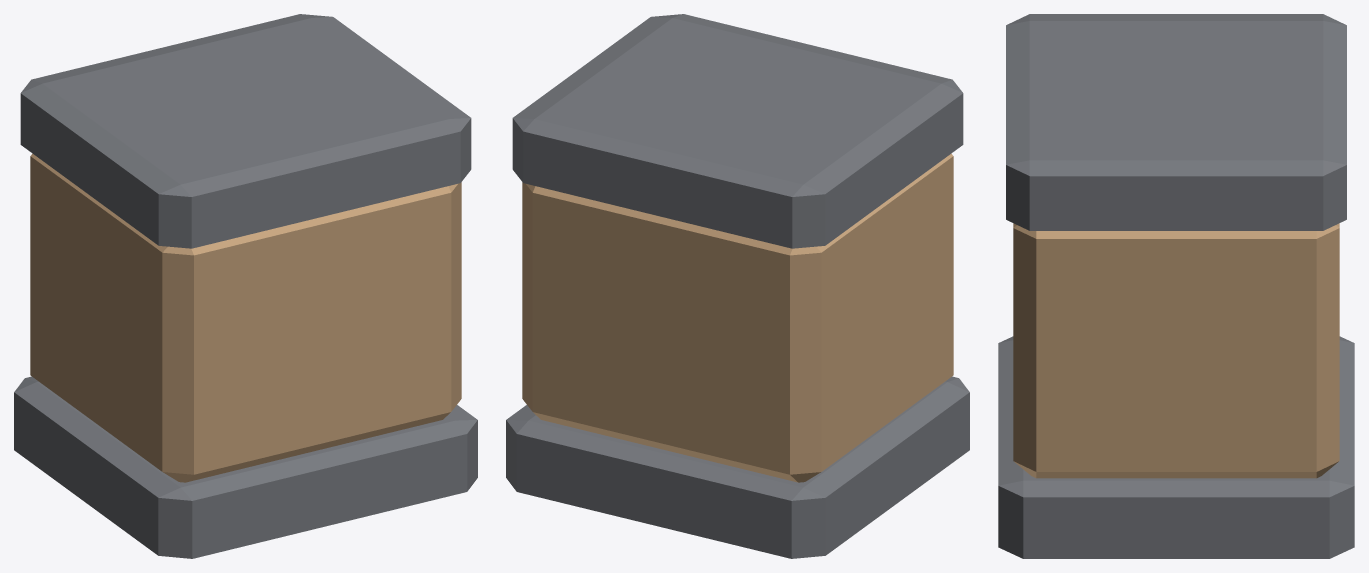
File: b14_wooden_cable_reel_on_skid.glb
3 views of the same model, side by side, from view 1: azimuth 30°, elevation 25°; view 2: azimuth 150°, elevation 25°; view 3: azimuth 270°, elevation 25° (orthographic). The views are drawn at different scales.
Parts seen in each view (by area): view 1: b14_wooden_cable_reel_on_skid; view 2: b14_wooden_cable_reel_on_skid; view 3: b14_wooden_cable_reel_on_skid.
Part boxes in pixels (x1,y1,x2,y2): b14_wooden_cable_reel_on_skid: (14, 14, 477, 558); b14_wooden_cable_reel_on_skid: (506, 14, 969, 558); b14_wooden_cable_reel_on_skid: (998, 14, 1354, 558).
Bounding box in the file's own units: 1.1 × 1.21 × 1.
